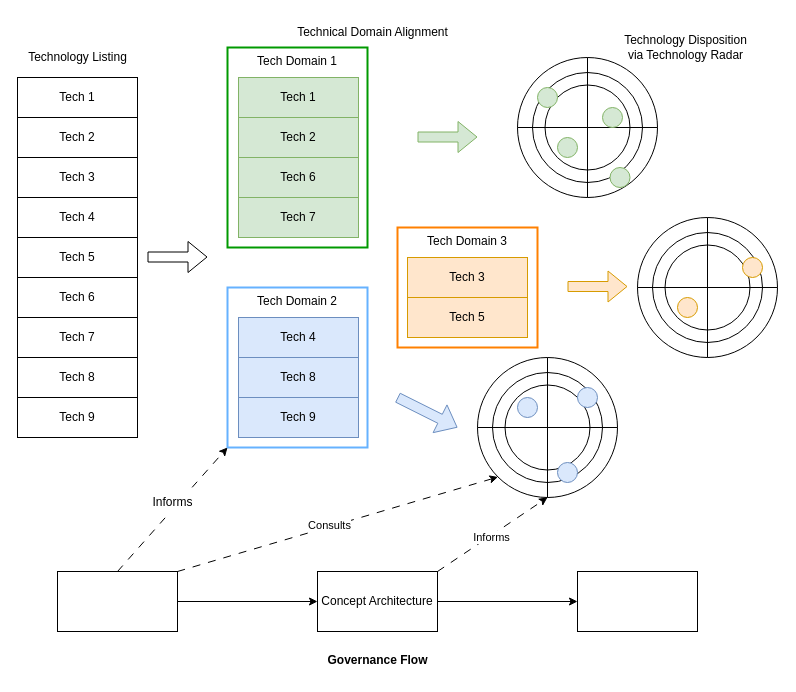
This 796x692 diagram has some shape labels left out. The centre of each missing label's shape, as x and y in pixels:
Architecture Review Board - Approval: point 637,601
Idea Submission: point 117,601
